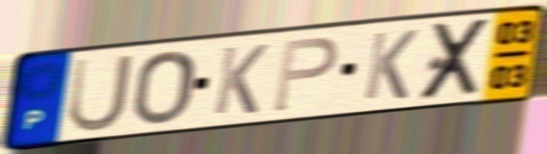K: (360, 27, 421, 103), (210, 42, 271, 118)
O: (130, 48, 199, 128)
P: (270, 34, 341, 115)
U: (65, 51, 137, 136)
X: (415, 15, 496, 104)
